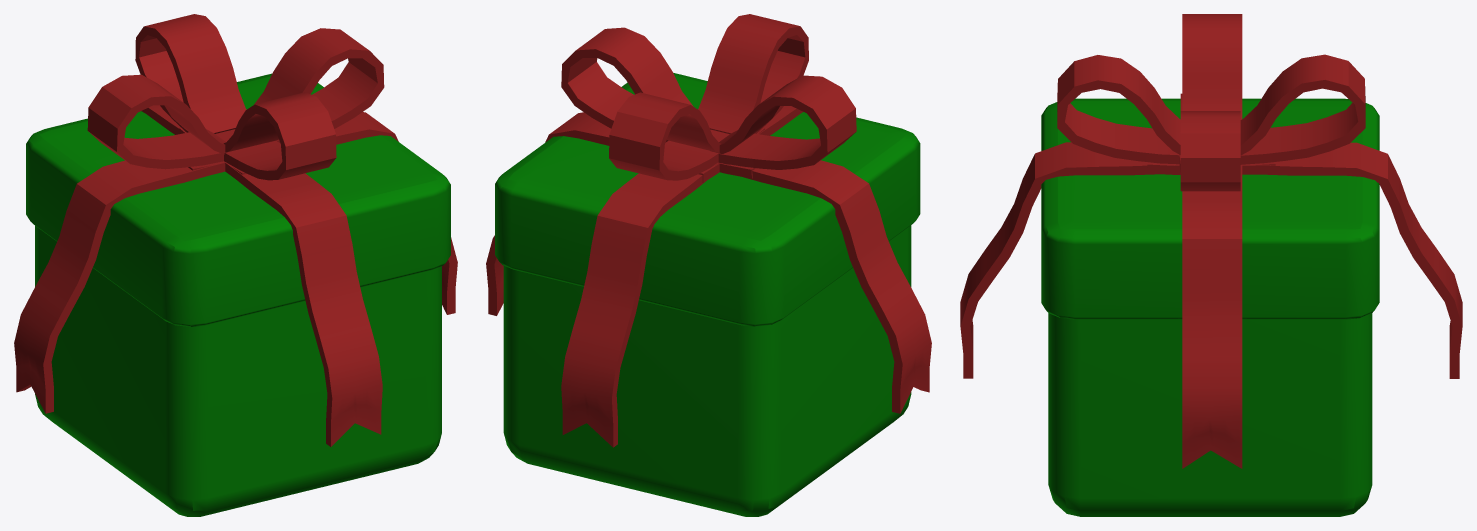
Rendered from Regalo.fbx.
The picture shows the model from 3 angles, left to right: view 1: azimuth 30°, elevation 25°; view 2: azimuth 150°, elevation 25°; view 3: azimuth 270°, elevation 25°; orthographic projection. The views are drawn at different scales.
Parts seen in each view (by area): view 1: pCube1, pCube2, pCube11, pCube12; view 2: pCube1, pCube2, pCube12, pCube11; view 3: pCube1, pCube2, pCube11, pCube12.
Part boxes in pixels (left/top/right/bottom): pCube1: left=35, top=226, right=441, bottom=516; pCube2: left=26, top=73, right=450, bottom=326; pCube11: left=87, top=14, right=457, bottom=446; pCube12: left=14, top=28, right=384, bottom=413; pCube1: left=503, top=225, right=911, bottom=516; pCube2: left=495, top=73, right=920, bottom=326; pCube12: left=561, top=14, right=931, bottom=447; pCube11: left=486, top=75, right=856, bottom=315; pCube1: left=1048, top=313, right=1372, bottom=516; pCube2: left=1041, top=98, right=1379, bottom=319; pCube11: left=960, top=14, right=1365, bottom=468; pCube12: left=1057, top=55, right=1462, bottom=378.
Bounding box in the file's own units: 8.22 × 7.18 × 8.36.
